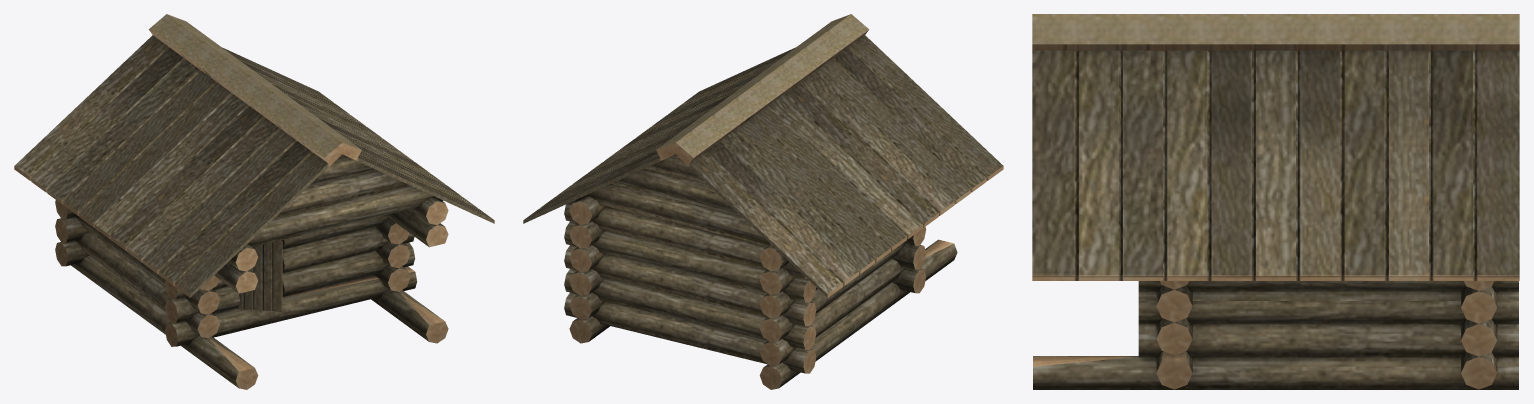
File: log_cabin.glb
The picture shows the model from 3 angles, left to right: view 1: azimuth 30°, elevation 25°; view 2: azimuth 150°, elevation 25°; view 3: azimuth 270°, elevation 25°; orthographic projection. The views are drawn at different scales.
Visible parts, largest first — view 1: Cabin; view 2: Cabin; view 3: Cabin.
Boxes of the visible parts, box(x1,y1,x2,y2) form: Cabin: box(14, 14, 494, 389); Cabin: box(523, 14, 1003, 389); Cabin: box(1032, 14, 1519, 389).
Bounding box in the file's own units: 9.6 × 6.76 × 9.6.
Materials: 2 (1 with a texture image).
